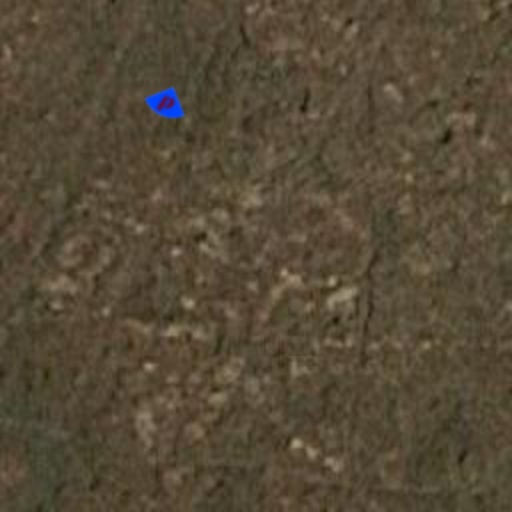quarter_circle: (138, 76, 194, 132)
